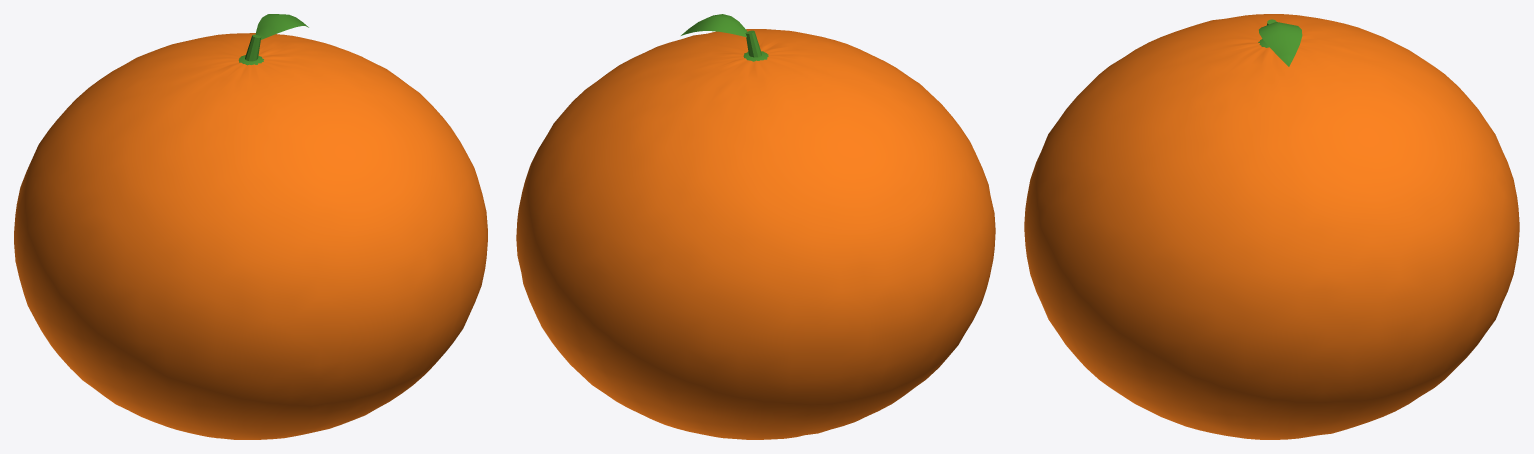
The model's file is orange.fbx.
3 views of the same model, side by side, from view 1: azimuth 30°, elevation 25°; view 2: azimuth 150°, elevation 25°; view 3: azimuth 270°, elevation 25° (orthographic). The views are drawn at different scales.
Parts seen in each view (by area): view 1: orange; view 2: orange; view 3: orange.
Boxes of the visible parts, x1,y1,x2,y2 form: orange: (14,14,487,439); orange: (516,14,995,439); orange: (1024,14,1519,439).
Size of the model in its own units: 50 by 45 by 50.
